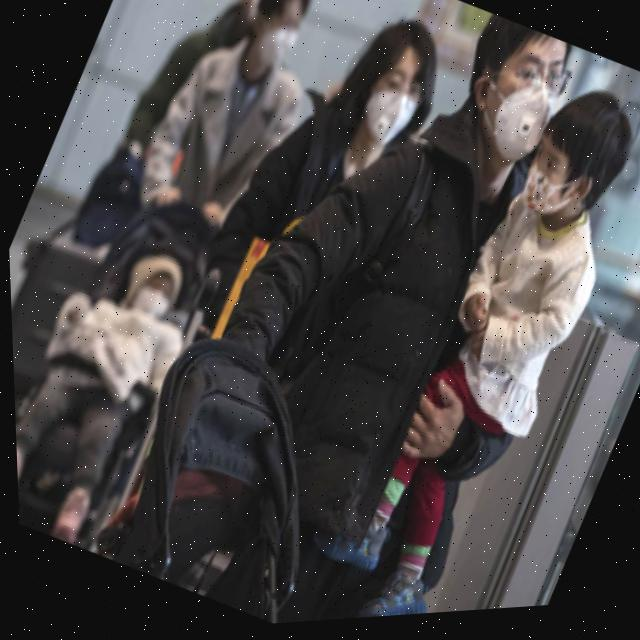Mask: (446, 47, 566, 175), (510, 138, 607, 243), (345, 66, 430, 161), (237, 1, 309, 86), (115, 265, 178, 327)
